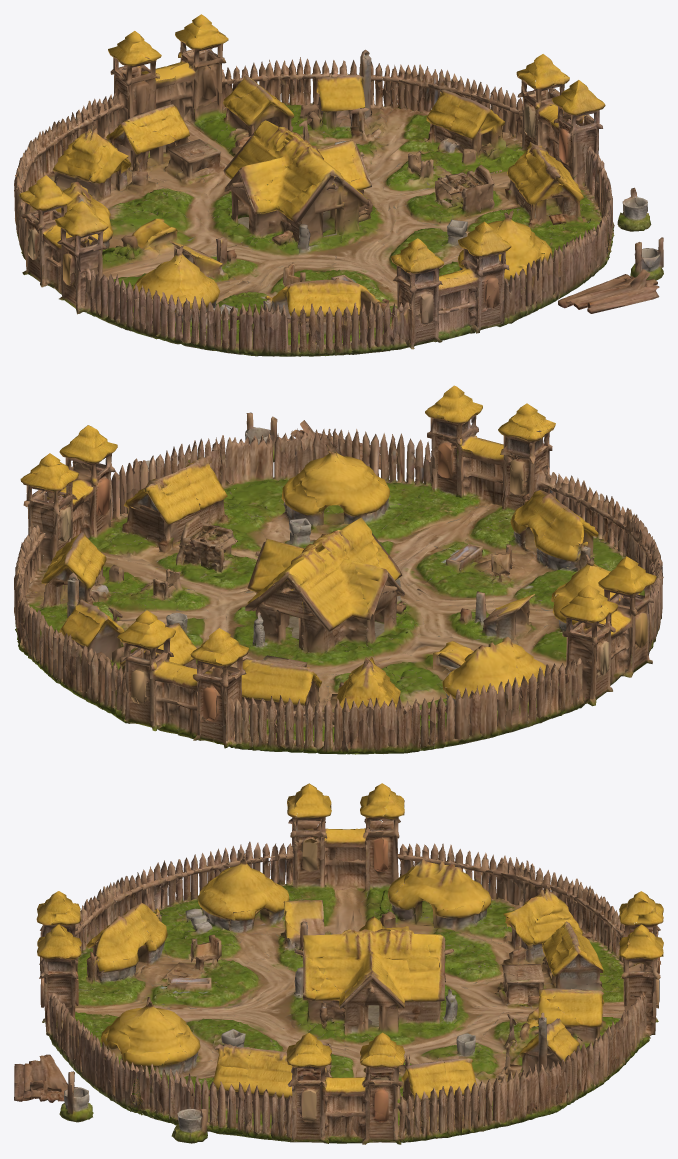
File: Village_Gauls_S.glb
3 views of the same model, one above another, from view 1: azimuth 30°, elevation 25°; view 2: azimuth 150°, elevation 25°; view 3: azimuth 270°, elevation 25° (orthographic). The views are drawn at different scales.
Visible parts, largest first — view 1: Mesh_0; view 2: Mesh_0; view 3: Mesh_0.
Part boxes in pixels (bbox=[...]): Mesh_0: bbox=[14, 14, 663, 356]; Mesh_0: bbox=[14, 385, 663, 754]; Mesh_0: bbox=[14, 783, 663, 1144].
Bounding box in the file's own units: 1.86 × 0.3531 × 1.9.
1 material, 1 textured.
